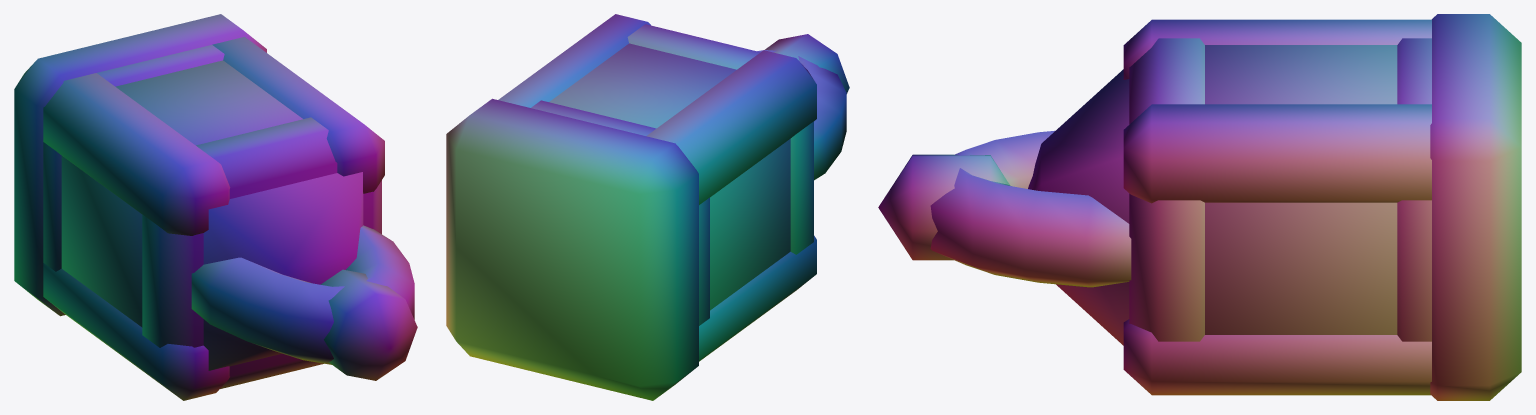
Rendered from SM_NPCKit_Prop_Lantern.fbx.
3 views of the same model, side by side, from view 1: azimuth 30°, elevation 25°; view 2: azimuth 150°, elevation 25°; view 3: azimuth 270°, elevation 25° (orthographic). The views are drawn at different scales.
Visible parts, largest first — view 1: SM_NPCKit_Prop_Lantern; view 2: SM_NPCKit_Prop_Lantern; view 3: SM_NPCKit_Prop_Lantern.
Part boxes in pixels (box(x1,y1,x2,y2)): SM_NPCKit_Prop_Lantern: box(14, 14, 417, 400); SM_NPCKit_Prop_Lantern: box(446, 14, 849, 400); SM_NPCKit_Prop_Lantern: box(878, 14, 1521, 400).
Bounding box in the file's own units: 0.115 × 0.115 × 0.2375.
